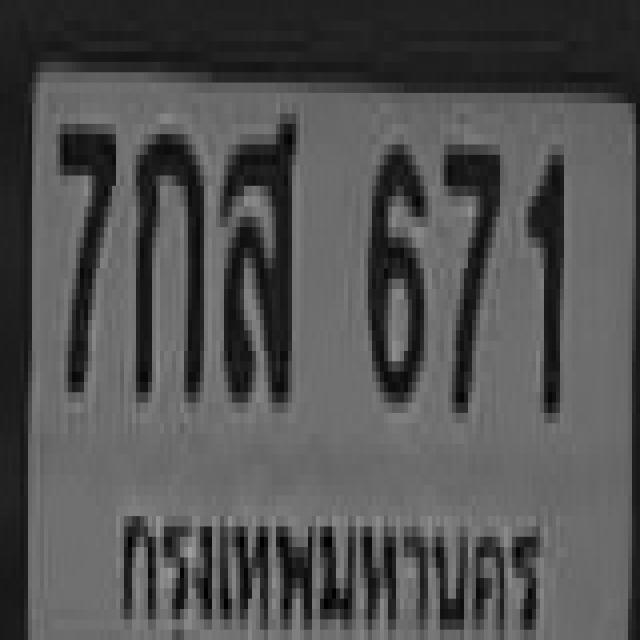1: (524, 144, 560, 413)
10GorGai: (132, 124, 200, 392)
49SorSuea: (218, 103, 290, 392)
6: (364, 134, 420, 392)
7: (56, 113, 112, 382), (440, 134, 496, 403)
Bangkok: (104, 485, 540, 640)
